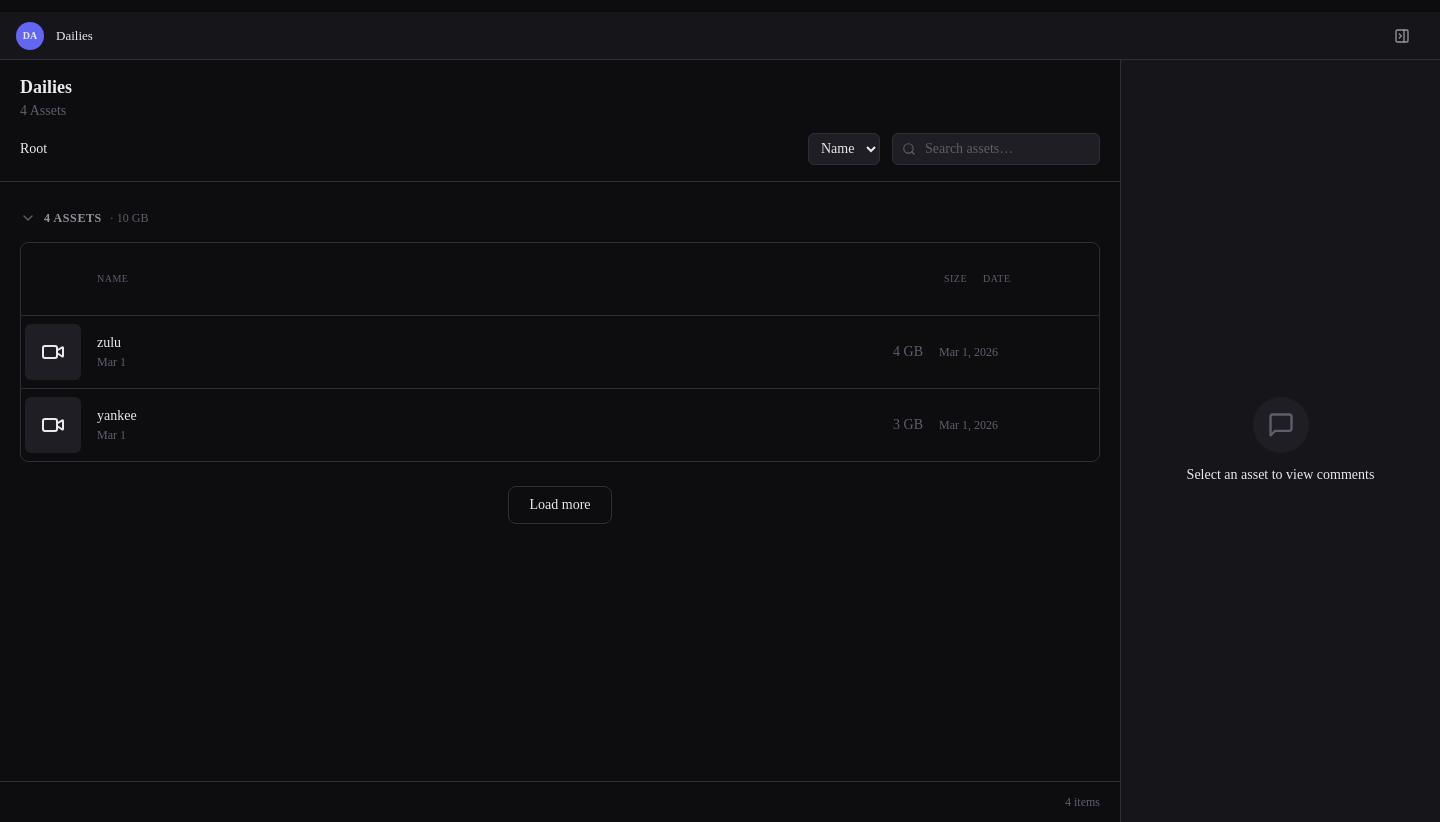
Test case: sort is delegated to the API › does NOT reorder what the server returned when page 2 arrives
This screenshot has width=1440, height=822.
Check: the text "zulu" is shown, box [97,335,121,350]
Step 1. Click the button "Load more" → x=560, y=504, box [508,486,612,524]
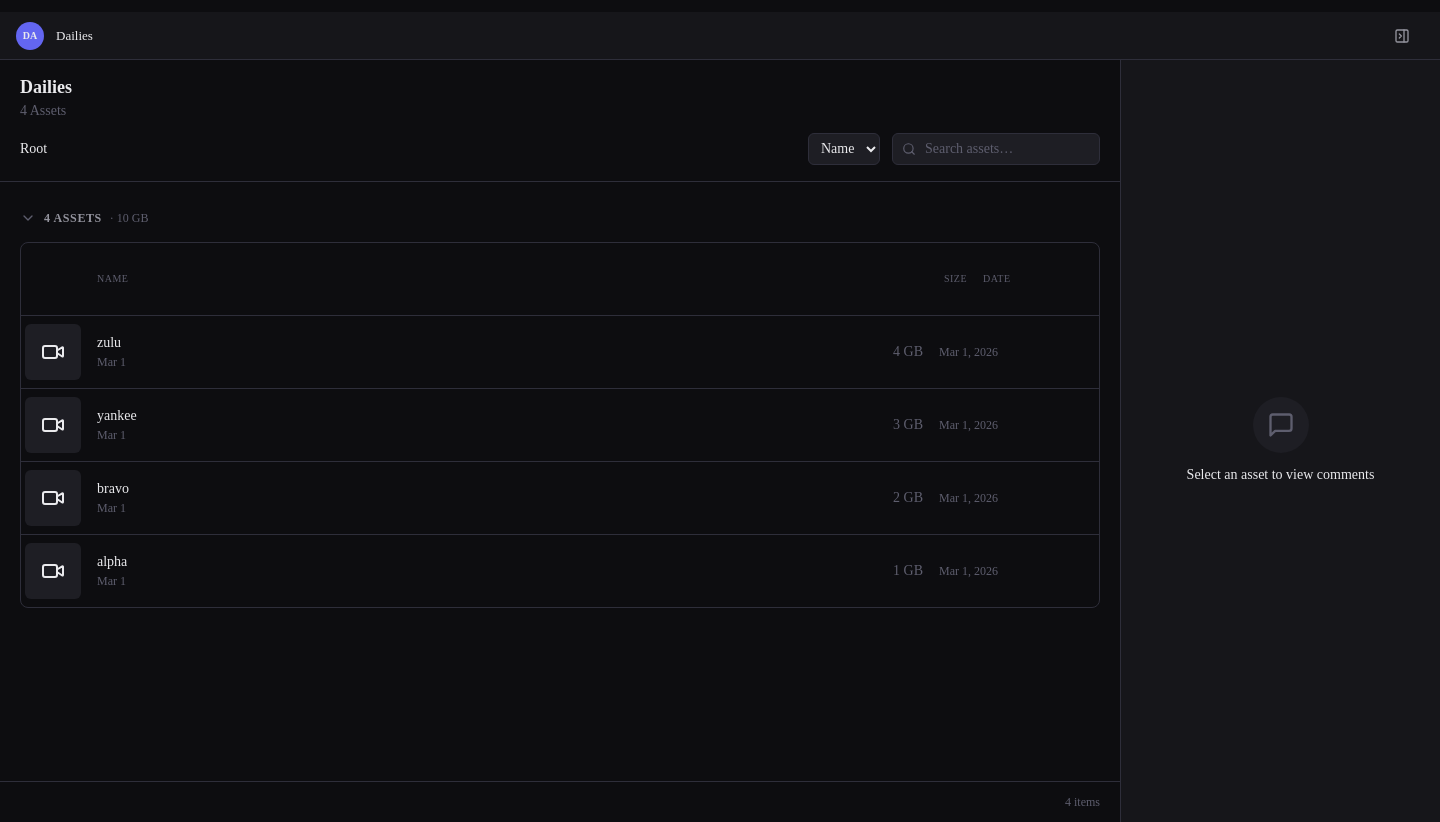
Check: the text "alpha" is shown, box [97,554,127,569]
